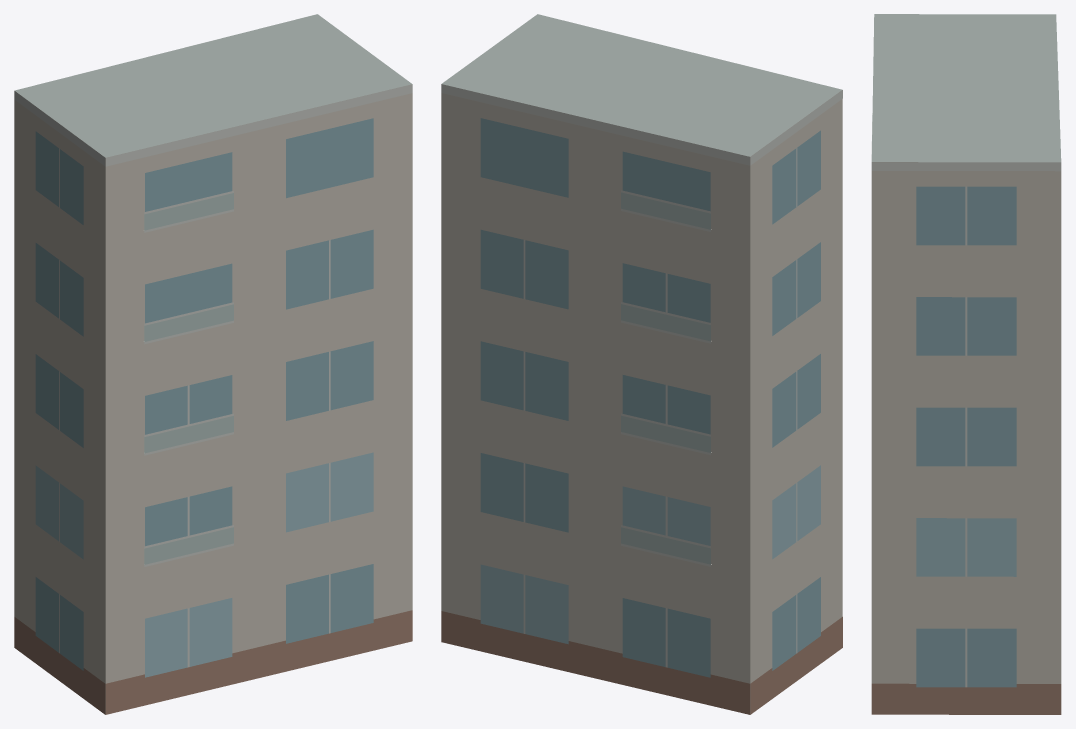
Rendered from survey-upis-32647654.glb.
The picture shows the model from 3 angles, left to right: view 1: azimuth 30°, elevation 25°; view 2: azimuth 150°, elevation 25°; view 3: azimuth 270°, elevation 25°; orthographic projection.
Visible parts, largest first — view 1: survey-upis-32647654.tmp; view 2: survey-upis-32647654.tmp; view 3: survey-upis-32647654.tmp.
Boxes of the visible parts, x1,y1,x2,y2 form: survey-upis-32647654.tmp: [14, 14, 412, 714]; survey-upis-32647654.tmp: [441, 14, 842, 714]; survey-upis-32647654.tmp: [871, 14, 1061, 714].
Bounding box in the file's own units: 8.79 × 15.25 × 4.75.
